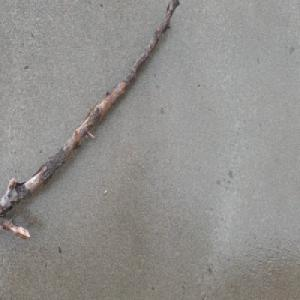Wood: (0, 0, 179, 240)
